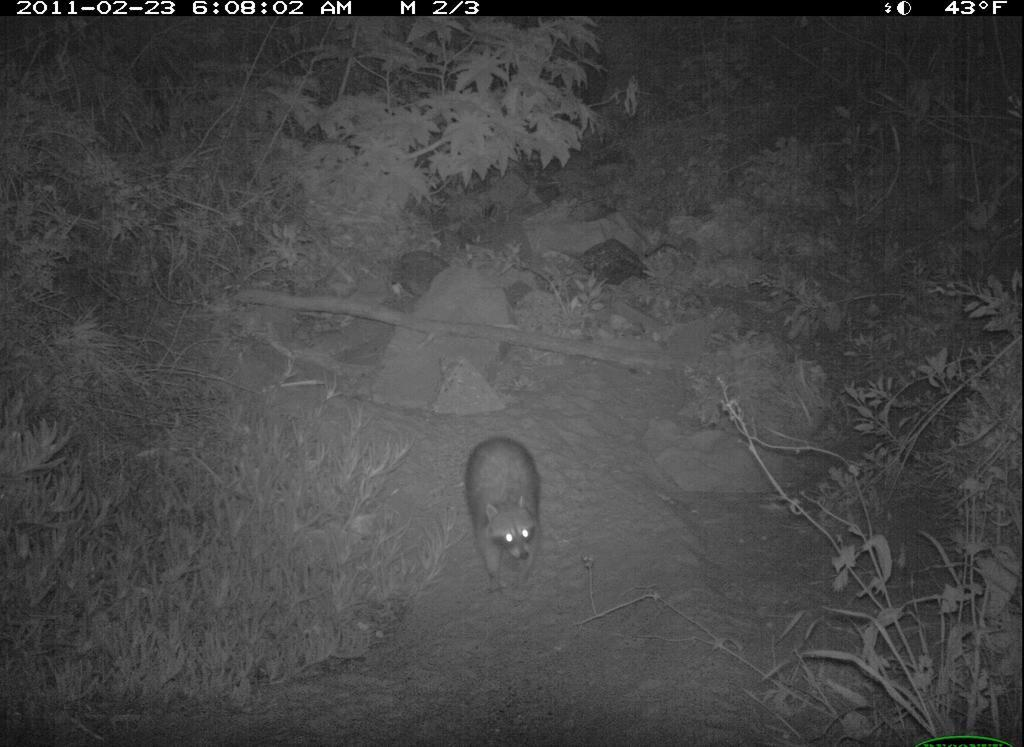raccoon: (466, 436, 548, 601)
